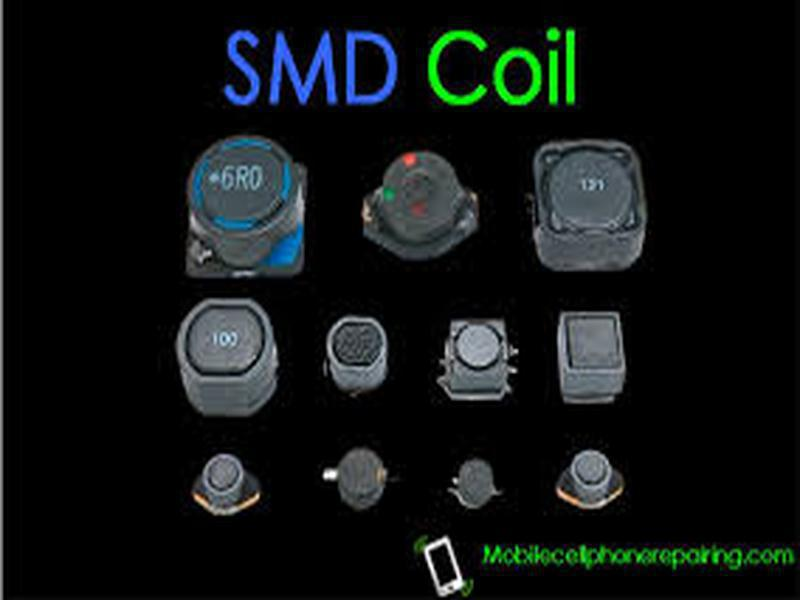inductor_chunk: (537, 143, 655, 261)
